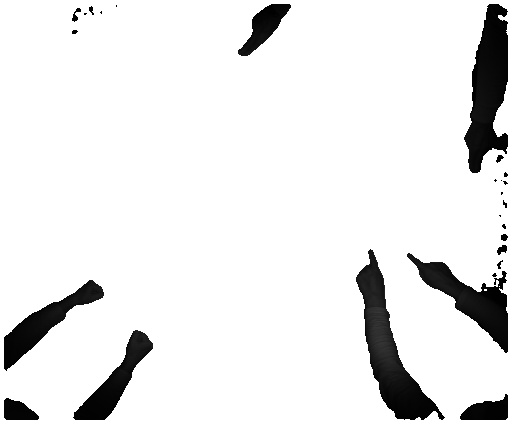fist: (125, 328, 159, 364), (73, 280, 103, 311)
hand: (400, 248, 463, 294), (232, 9, 285, 55), (352, 248, 391, 306), (464, 125, 497, 177)
